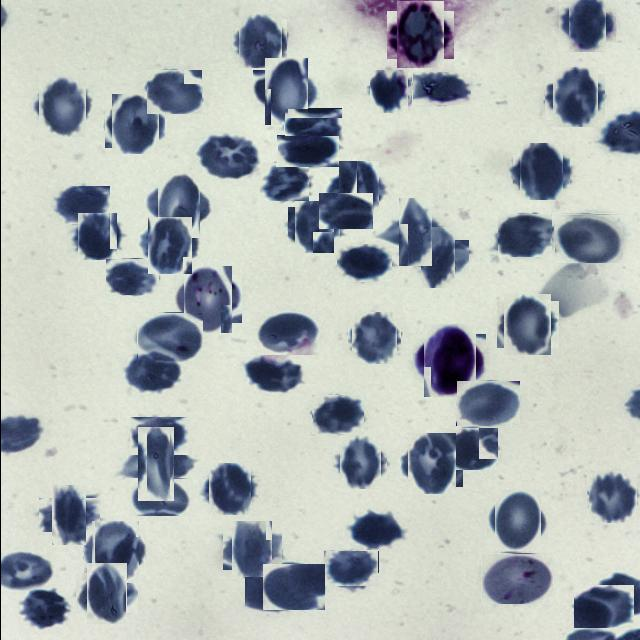leukocyte: (417, 329, 480, 392)
red blood cell: (553, 214, 622, 264), (391, 6, 448, 64), (136, 312, 202, 362), (86, 524, 142, 580), (258, 64, 313, 120), (128, 436, 183, 492), (489, 493, 544, 548), (455, 380, 519, 426), (107, 97, 161, 151), (34, 79, 88, 133), (500, 298, 554, 352), (151, 178, 205, 232), (404, 436, 458, 490), (262, 564, 324, 610), (548, 70, 600, 124), (198, 134, 256, 180), (256, 312, 318, 355), (515, 146, 566, 198), (80, 568, 132, 619), (388, 206, 439, 258), (573, 585, 633, 628), (143, 220, 194, 270), (145, 69, 201, 114), (234, 16, 284, 66), (332, 166, 382, 216), (588, 472, 638, 522), (496, 213, 551, 257), (349, 313, 398, 362), (226, 526, 276, 574), (442, 427, 497, 470), (123, 352, 180, 393), (128, 478, 189, 516), (336, 438, 384, 486), (44, 491, 92, 539), (413, 233, 461, 281), (205, 466, 253, 513), (562, 0, 610, 47), (129, 417, 187, 455), (246, 357, 304, 394), (244, 578, 300, 616), (290, 204, 336, 250), (336, 244, 391, 282), (283, 108, 341, 144), (55, 186, 109, 224), (311, 395, 363, 434), (322, 550, 378, 586), (411, 71, 470, 105), (18, 590, 68, 630), (104, 258, 158, 295), (276, 135, 338, 167), (74, 214, 119, 258), (318, 193, 372, 229), (260, 163, 310, 201), (349, 514, 401, 550), (368, 71, 408, 112)
ring: (480, 553, 552, 604), (178, 270, 236, 328)
